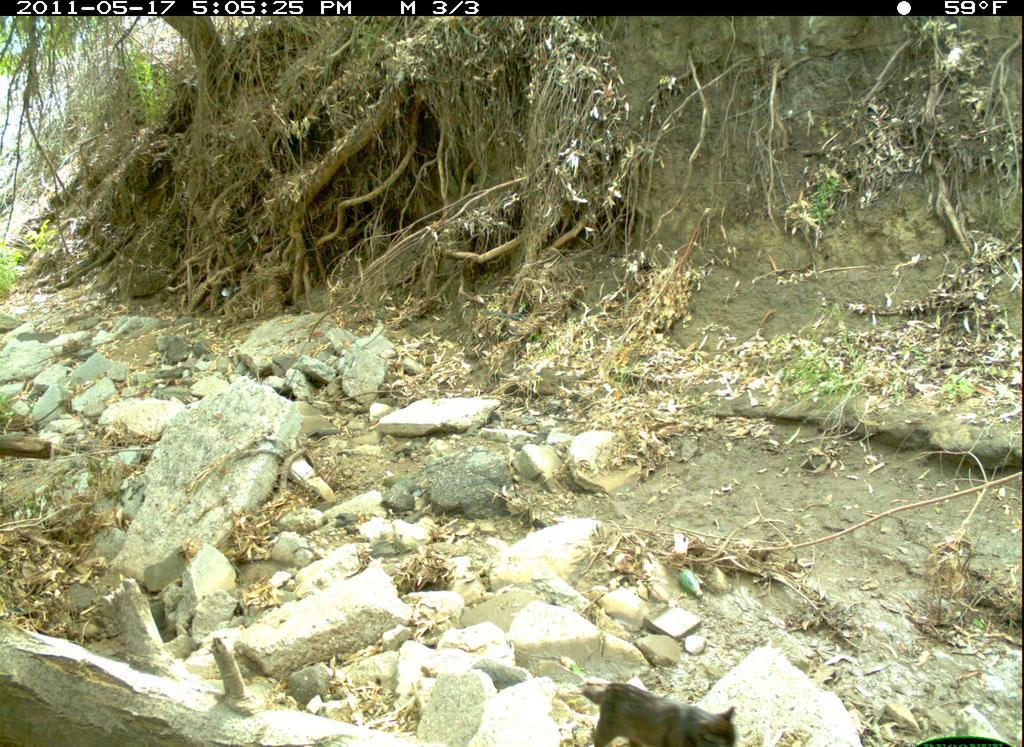cat: (578, 669, 745, 747)
